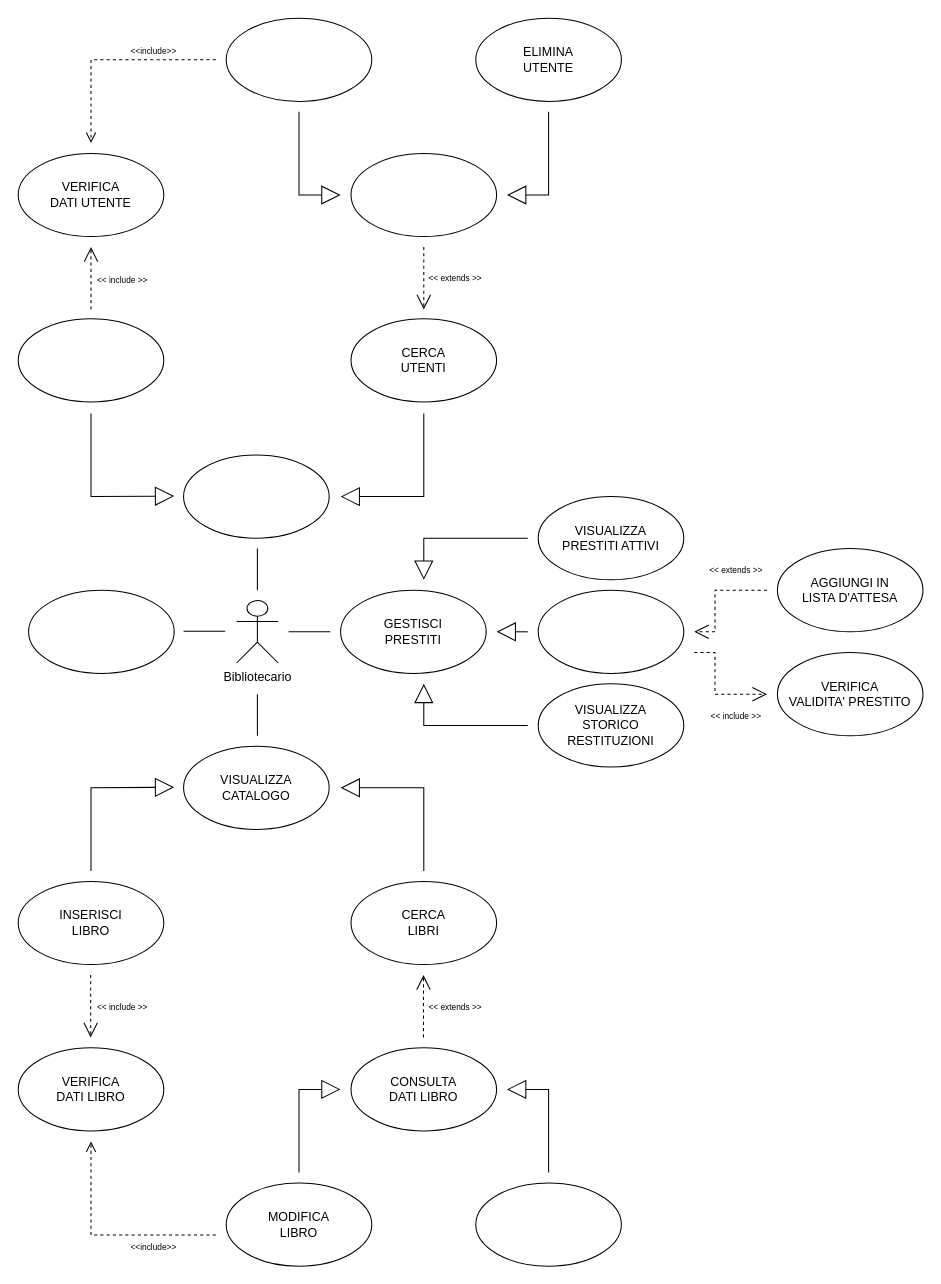
Some shapes in this 941 by 1284 pixel diagram are drawn without their labels. The centre of each missing label's shape, as x and y in pixels:
AGGIUNGI PRESTITO: point (610, 631)
CANCELLA LIBRO: point (548, 1224)
CONSULTA DATI UTENTE: point (423, 194)
INSERISCI UTENTE: point (90, 360)
MODIFICA UTENTE: point (298, 59)
VISUALIZZA STATISTICHE: point (101, 631)
VISUALIZZA UTENTI: point (256, 496)
